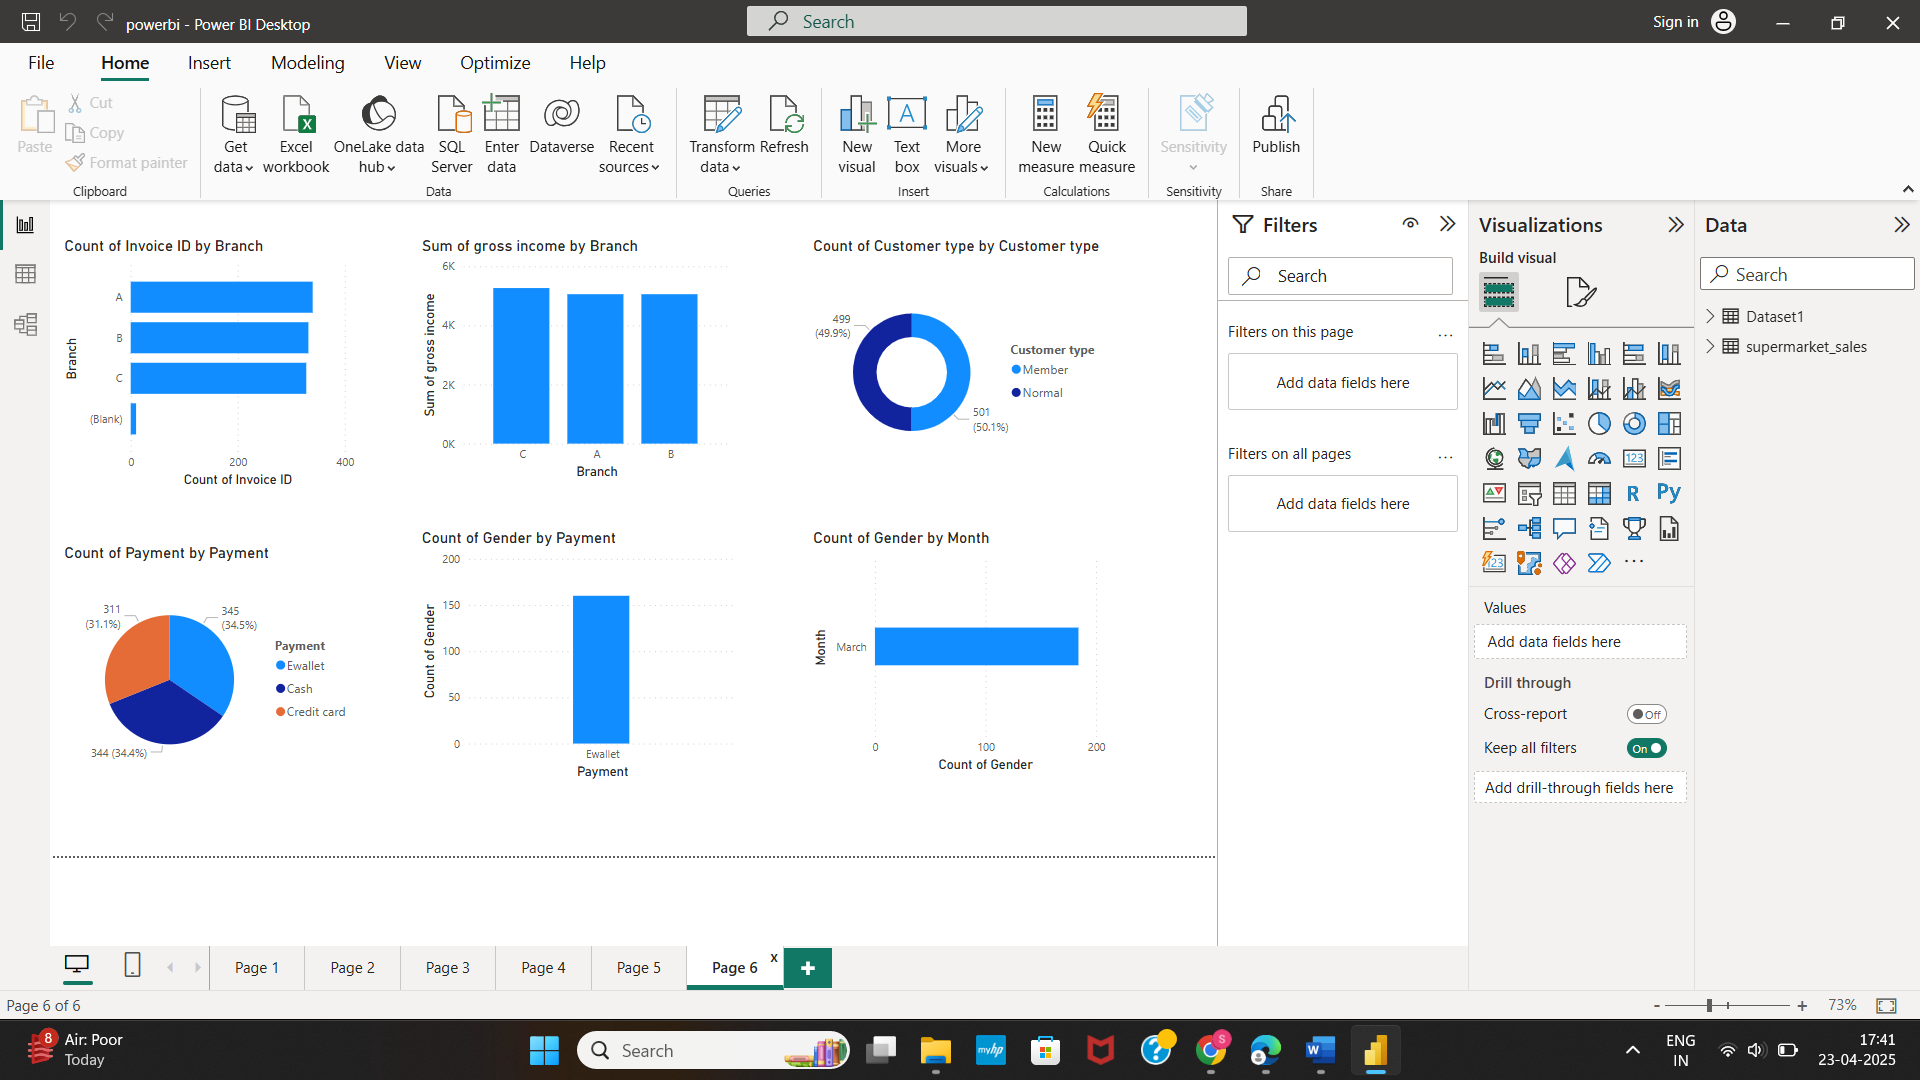

What the dashboard file says about the page in this screenshot:
{"tool":"powerbi","page":{"name":"Page 6","canvas":[1280,720],"ordinal":5},"visuals":[{"type":"barChart","fields":{"Category":["supermarket_sales.Branch"],"Y":["CountNonNull(supermarket_sales.Invoice ID)"]},"box":[11,39.8,327.7,279.7],"z":0},{"type":"columnChart","fields":{"Category":["supermarket_sales.Branch"],"Y":["Sum(supermarket_sales.gross income)"]},"box":[403.1,39.8,348.2,271.5],"z":1000},{"type":"donutChart","fields":{"Category":["supermarket_sales.Customer type"],"Y":["CountNonNull(supermarket_sales.Customer type)"]},"box":[832.2,39.8,330.4,279.7],"z":2000},{"type":"pieChart","fields":{"Category":["supermarket_sales.Payment"],"Y":["CountNonNull(supermarket_sales.Payment)"]},"box":[11,377,327.7,279.7],"z":3000},{"type":"columnChart","fields":{"Category":["supermarket_sales.Payment"],"Y":["CountNonNull(supermarket_sales.Gender)"]},"box":[403.1,360.6,355.1,279.7],"z":4000},{"type":"clusteredBarChart","fields":{"Category":["supermarket_sales.Date of purchase.Variation.Date Hierarchy.Month"],"Y":["CountNonNull(supermarket_sales.Gender)"]},"box":[832.2,360.6,330.4,271.5],"z":5000}]}

Visuals, with their boxes on the page's 1280x720 design canvas (x1, y1, x2, y2). These are canvas units, not pixel positions in the 1920x1080 screenshot, which may show the page scaled, cropped or inside an application window:
barChart - supermarket_sales.Branch x CountNonNull(supermarket_sales.Invoice ID): Rect(11, 40, 339, 320)
columnChart - supermarket_sales.Branch x Sum(supermarket_sales.gross income): Rect(403, 40, 751, 311)
donutChart - supermarket_sales.Customer type x CountNonNull(supermarket_sales.Customer type): Rect(832, 40, 1163, 320)
pieChart - supermarket_sales.Payment x CountNonNull(supermarket_sales.Payment): Rect(11, 377, 339, 657)
columnChart - supermarket_sales.Payment x CountNonNull(supermarket_sales.Gender): Rect(403, 361, 758, 640)
clusteredBarChart - supermarket_sales.Date of purchase.Variation.Date Hierarchy.Month x CountNonNull(supermarket_sales.Gender): Rect(832, 361, 1163, 632)
